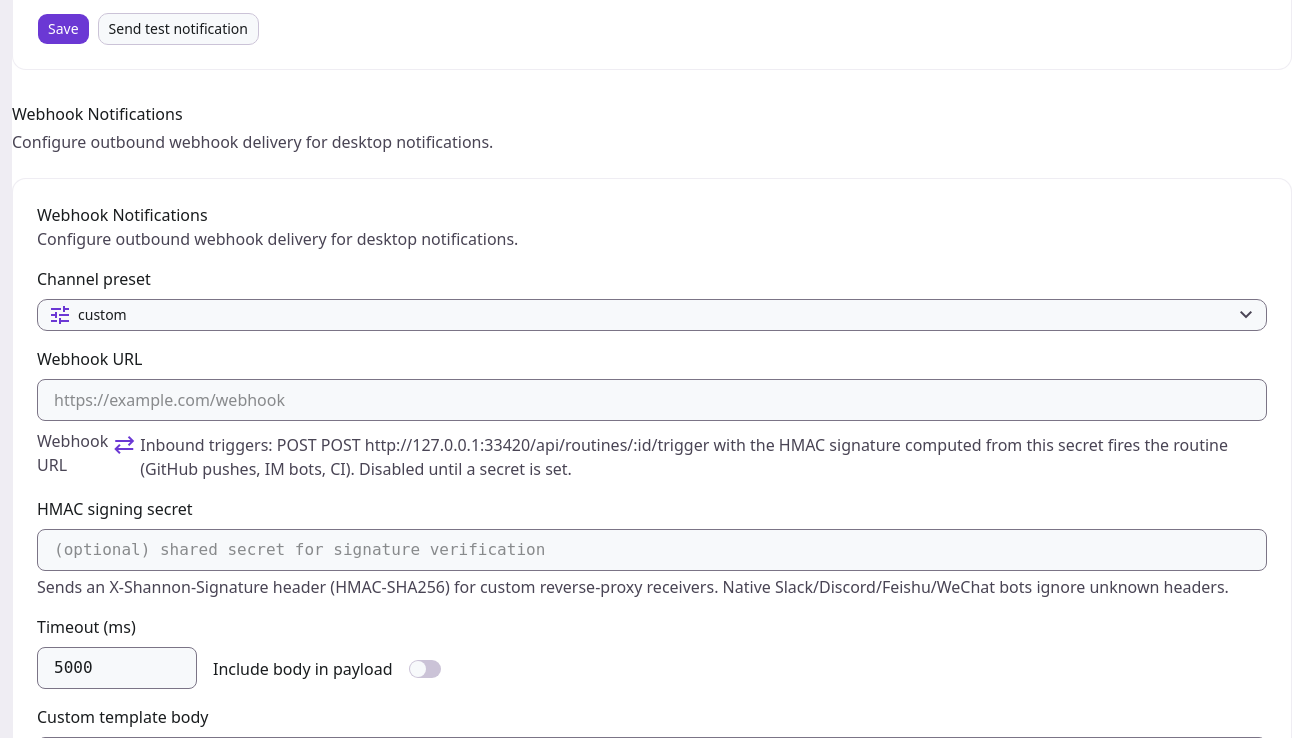
NotificationsSettings — webhook save validation › flags an ftp:// URL as invalid (scheme rejection)
(page scrolled)
Type "ftp://example.com" into the field labelled "Webhook URL".
click(652, 400); type("ftp://example.com")  # box [37, 379, 1267, 421]
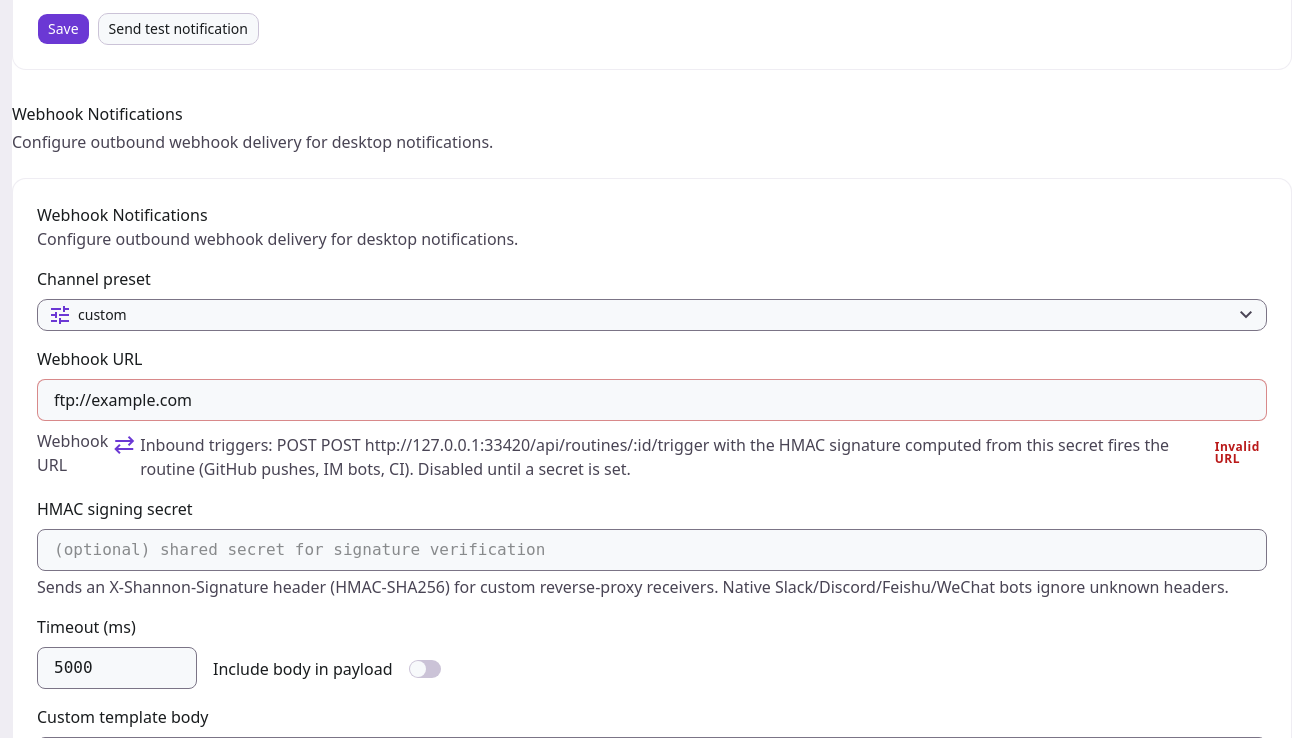
Expected: the text "Invalid URL" is shown, [1215, 441, 1267, 465]
